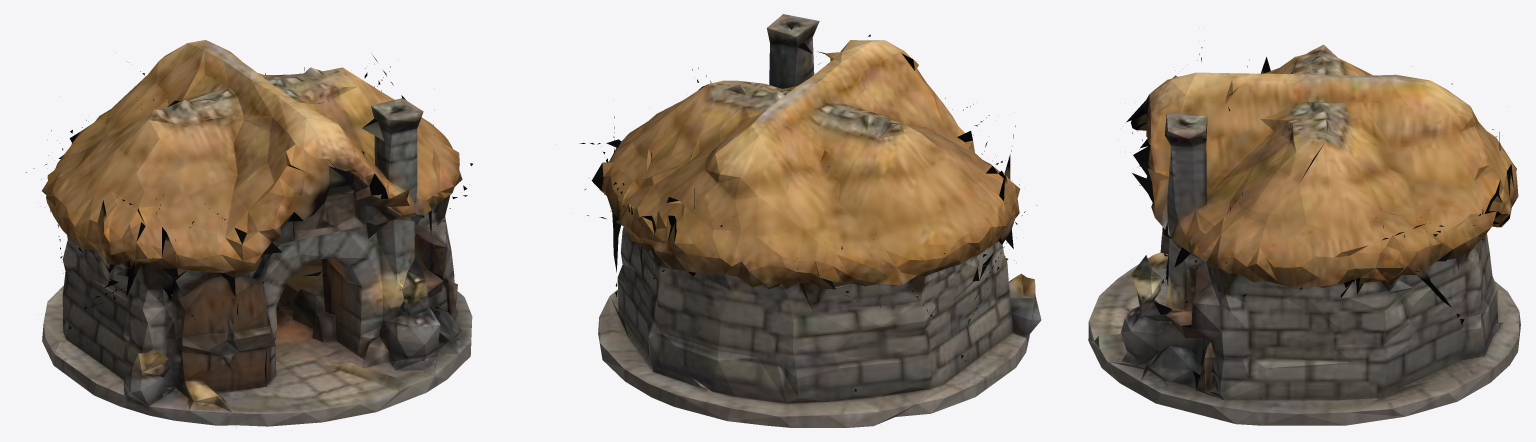
The model's file is blacksmith_thatch_stone_lod0.glb.
3 views of the same model, side by side, from view 1: azimuth 30°, elevation 25°; view 2: azimuth 150°, elevation 25°; view 3: azimuth 270°, elevation 25° (orthographic).
Visible parts, largest first — view 1: blacksmith_thatch_stone_lod0; view 2: blacksmith_thatch_stone_lod0; view 3: blacksmith_thatch_stone_lod0.
Part boxes in pixels (left/top/right/bottom): blacksmith_thatch_stone_lod0: left=26, top=40, right=472, bottom=427; blacksmith_thatch_stone_lod0: left=579, top=14, right=1041, bottom=427; blacksmith_thatch_stone_lod0: left=1088, top=44, right=1520, bottom=425.
Bounding box in the file's own units: 8.01 × 5.43 × 8.07.
1 material, 1 textured.
